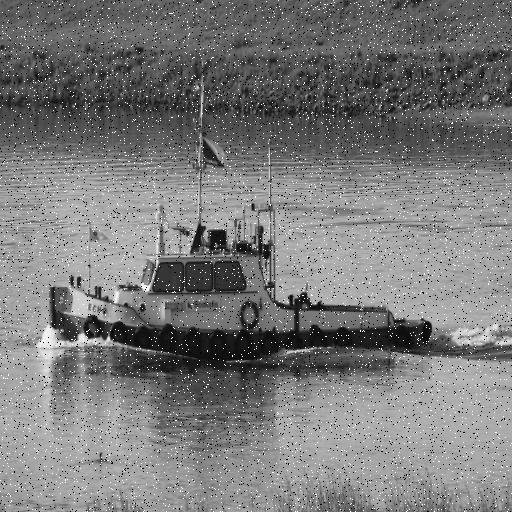tugboat: (47, 129, 437, 373)
